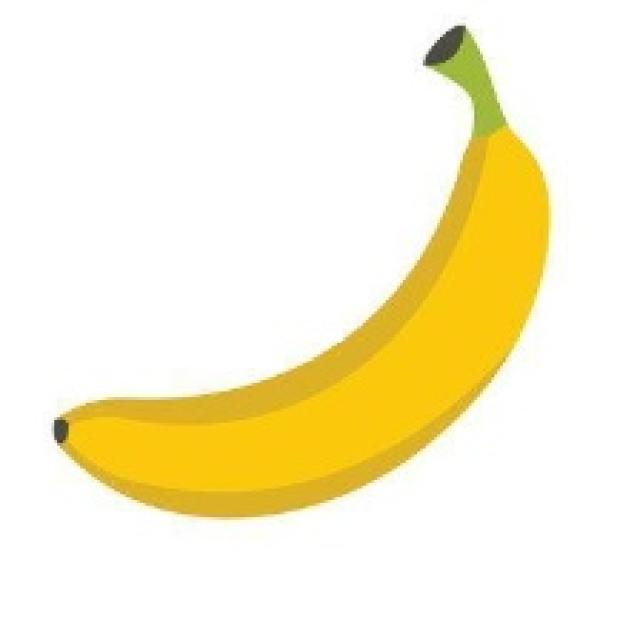Banana: (51, 20, 548, 517)
